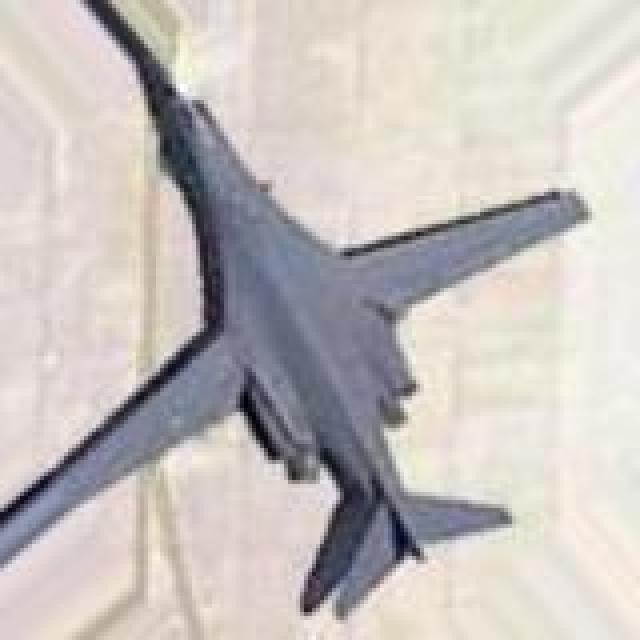B-1_TopDown: (0, 0, 592, 620)
